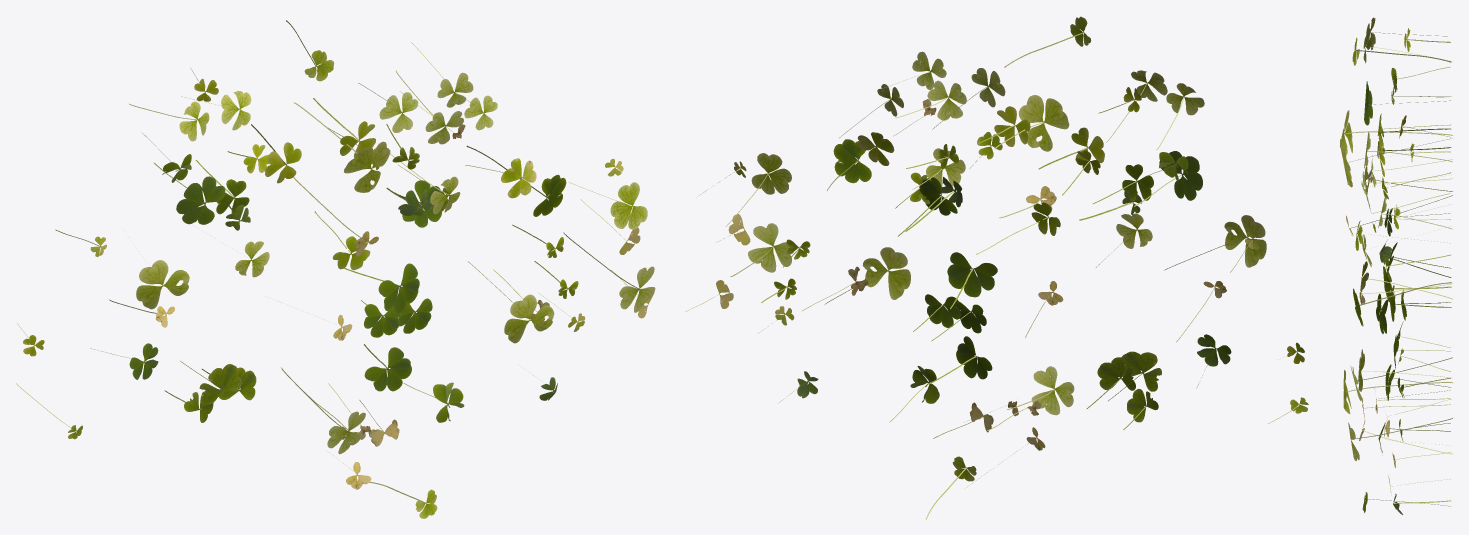
The model's file is Clovers_02_Var2_LOD1.fbx.
3 views of the same model, side by side, from view 1: azimuth 30°, elevation 25°; view 2: azimuth 150°, elevation 25°; view 3: azimuth 270°, elevation 25° (orthographic). The views are drawn at different scales.
Visible parts, largest first — view 1: Var2_LOD1; view 2: Var2_LOD1; view 3: Var2_LOD1.
Boxes of the visible parts, <box> form: Var2_LOD1: <box>16,20,655,518</box>; Var2_LOD1: <box>685,16,1308,519</box>; Var2_LOD1: <box>1340,17,1452,514</box>.
Bounding box in the file's own units: 67.04 × 51.67 × 12.67.
